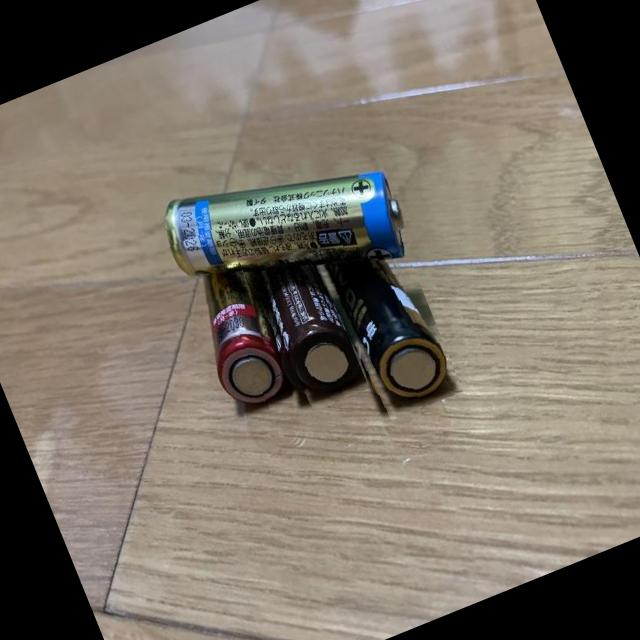Hazard: (148, 102, 444, 338), (304, 208, 463, 425), (160, 222, 303, 430), (236, 227, 370, 416)
